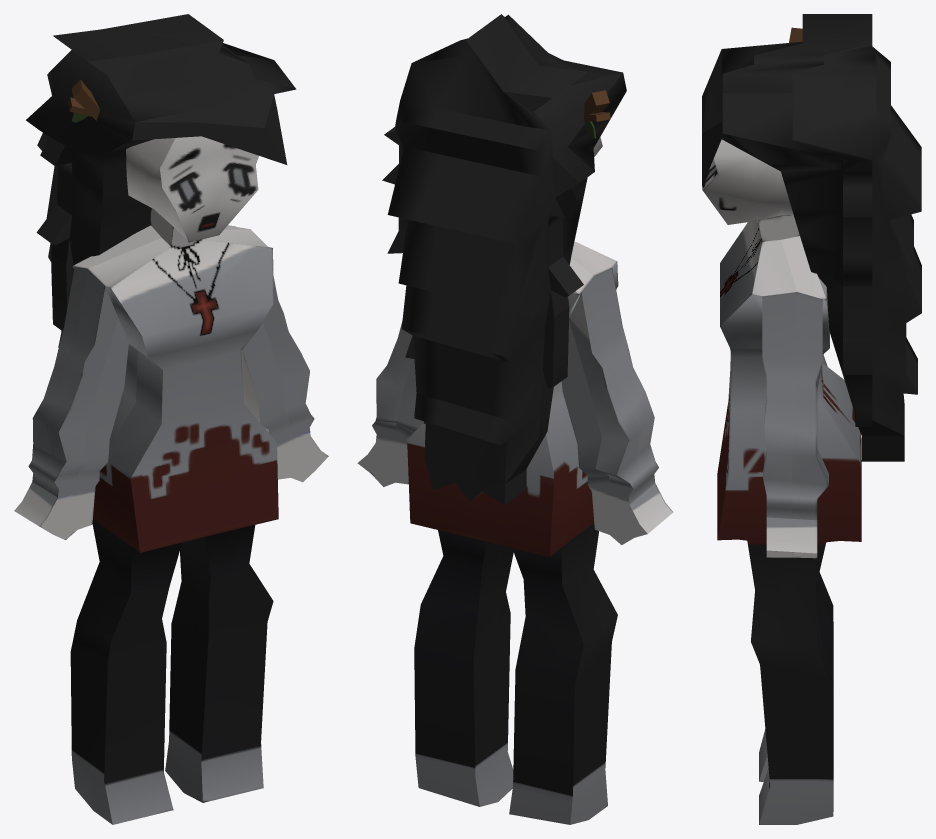
Rendered from PlayerCharacterFullHealthModelUnity.fbx.
The picture shows the model from 3 angles, left to right: view 1: azimuth 30°, elevation 25°; view 2: azimuth 150°, elevation 25°; view 3: azimuth 270°, elevation 25°; orthographic projection.
Visible parts, largest first — view 1: PlayerCharacterFullHealthModel; view 2: PlayerCharacterFullHealthModel; view 3: PlayerCharacterFullHealthModel.
Part boxes in pixels (x1=…): PlayerCharacterFullHealthModel: x1=14, y1=14, x2=328, y2=824; PlayerCharacterFullHealthModel: x1=357, y1=14, x2=673, y2=824; PlayerCharacterFullHealthModel: x1=702, y1=14, x2=921, y2=824.
Bounding box in the file's own units: 87.45 × 221 × 58.35.
Materials: 3 (3 with a texture image).
